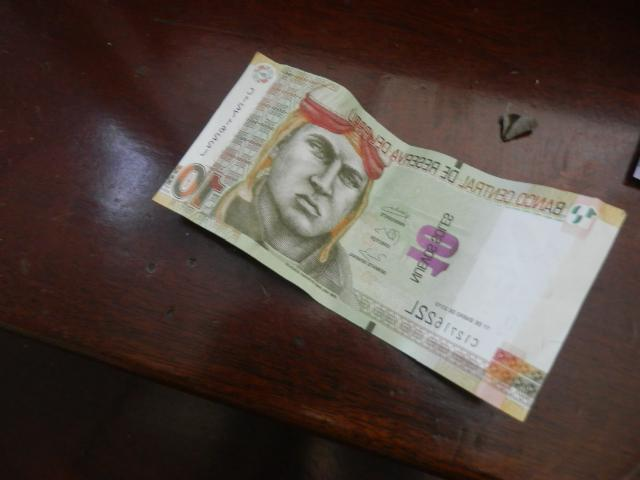B10: (153, 52, 626, 416)
